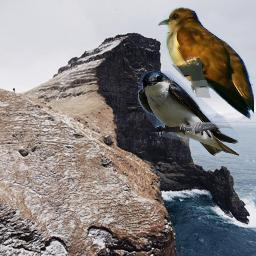Cuckoo: (158, 7, 254, 121)
Swallow: (138, 71, 239, 156)
